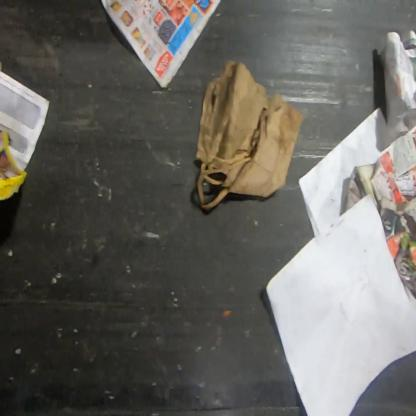cardboard: (339, 120, 415, 303)
